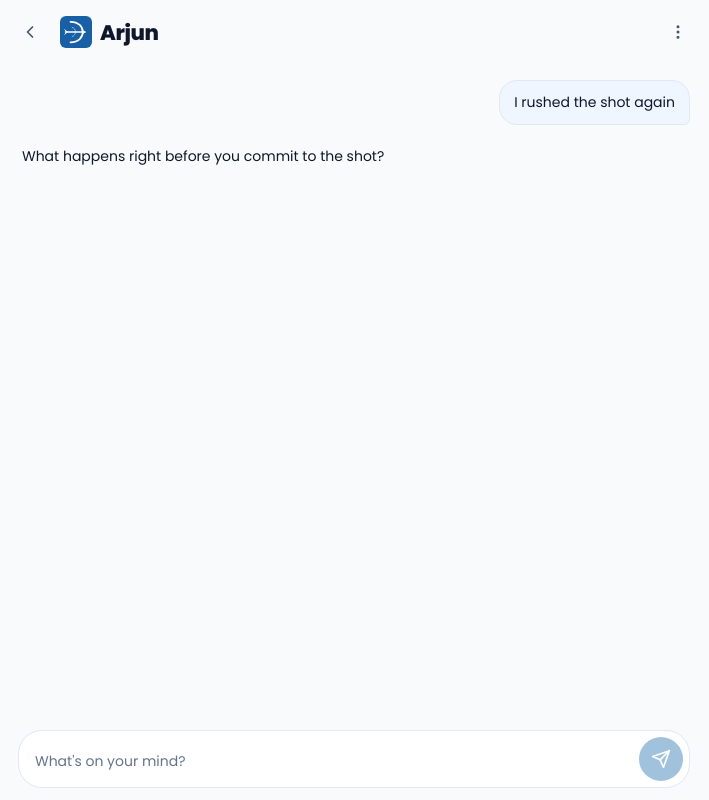
it: Coach — composer › send enables once real text is entered
Expected: the text "What happens right before you commit to the shot?" is shown, x1=22 y1=146 x2=384 y2=166
Type "I felt tight in the warm-up" into the text box at {"x": 333, "y": 761}, box x1=35 y1=741 x2=631 y2=781
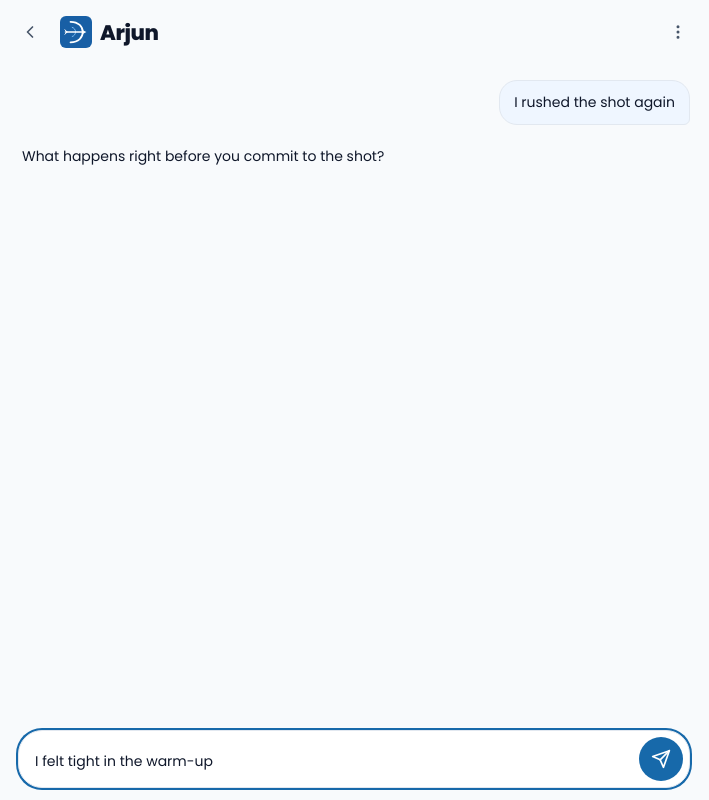
Expected: the button named "send" is enabled, x1=639 y1=737 x2=683 y2=781
